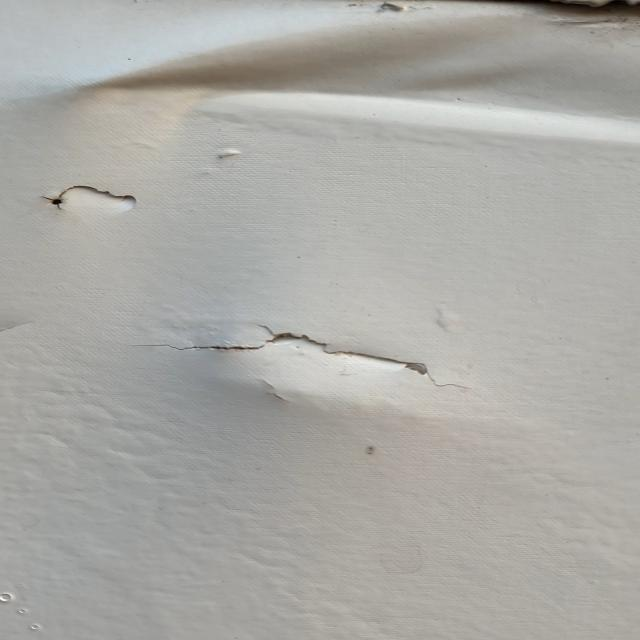Dents or Deformation: (121, 13, 640, 135)
Scratches: (179, 306, 578, 404), (21, 172, 177, 236)
